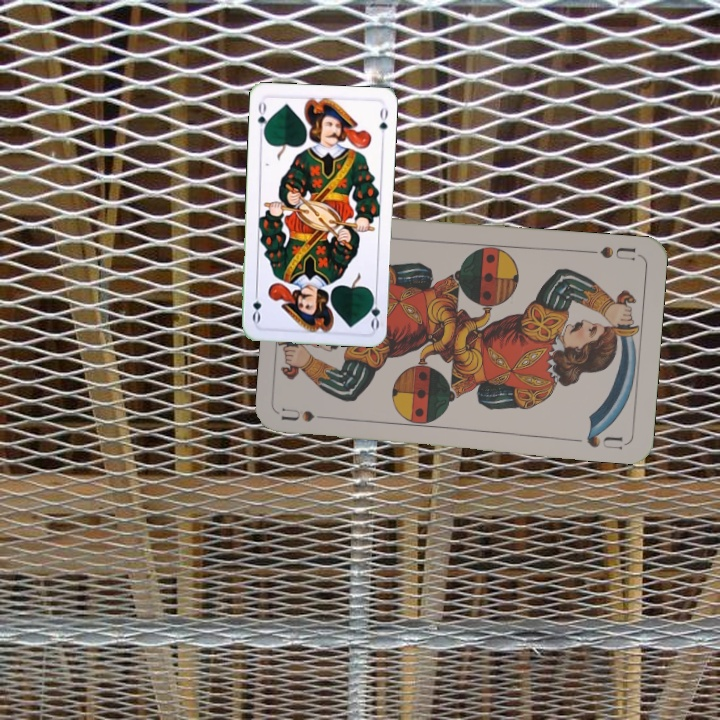GO: (253, 98, 271, 138), (365, 290, 382, 331)
SU: (582, 242, 641, 263), (279, 403, 338, 424)
